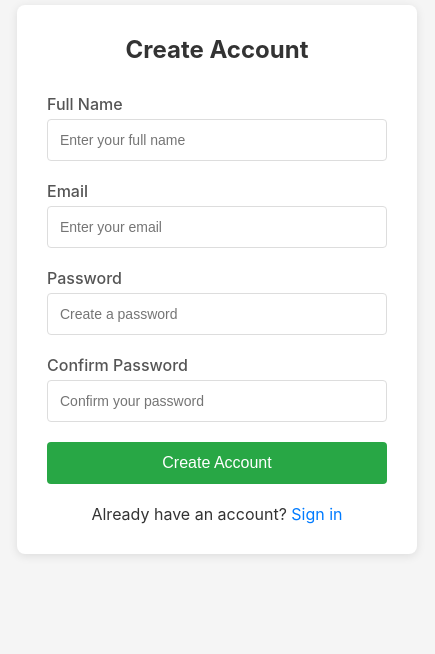
Test: RegisterForm › validates name length
Type "A" into the field labelled "Full Name" at point(217, 140), box [47,119,387,161]
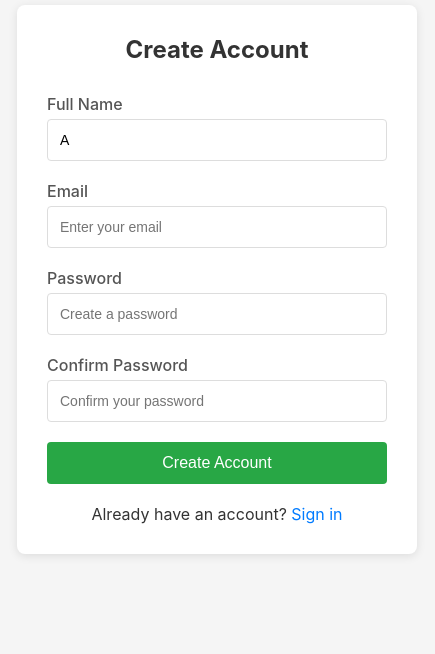
Click the button "Create Account" at point(217, 463), box [47,442,387,484]
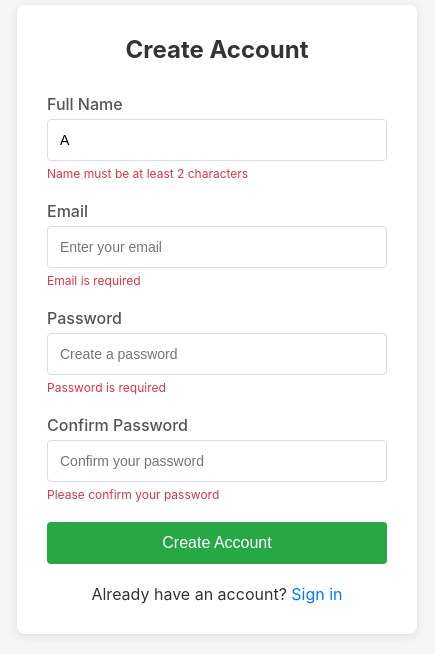
Result: the text "Name must be at least 2 characters" is shown at [47,166,248,181]
